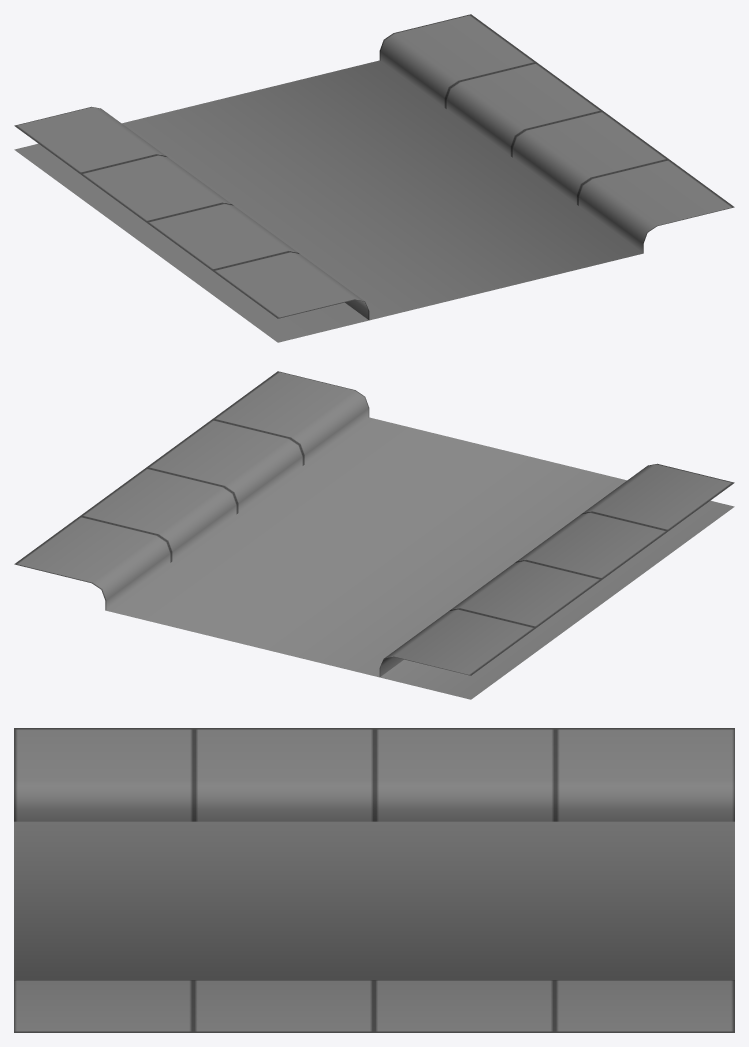
The model's file is PavementEdge2.glb.
3 views of the same model, one above another, from view 1: azimuth 30°, elevation 25°; view 2: azimuth 150°, elevation 25°; view 3: azimuth 270°, elevation 25° (orthographic). The views are drawn at different scales.
Parts seen in each view (by area): view 1: PavementEdge2; view 2: PavementEdge2; view 3: PavementEdge2.
Part boxes in pixels (left/top/right/bottom): PavementEdge2: left=14, top=14, right=734, bottom=342; PavementEdge2: left=14, top=371, right=734, bottom=699; PavementEdge2: left=14, top=728, right=734, bottom=1032.
Bounding box in the file's own units: 2 × 0.1 × 2.
Materials: 1 (1 with a texture image).
